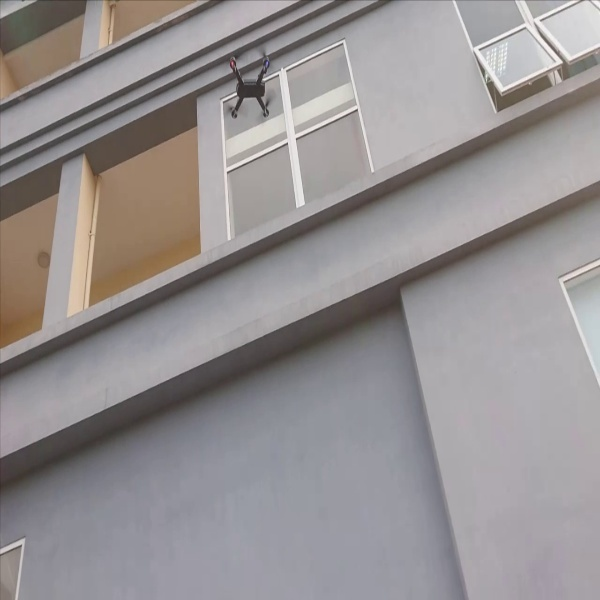drone: (215, 42, 283, 127)
